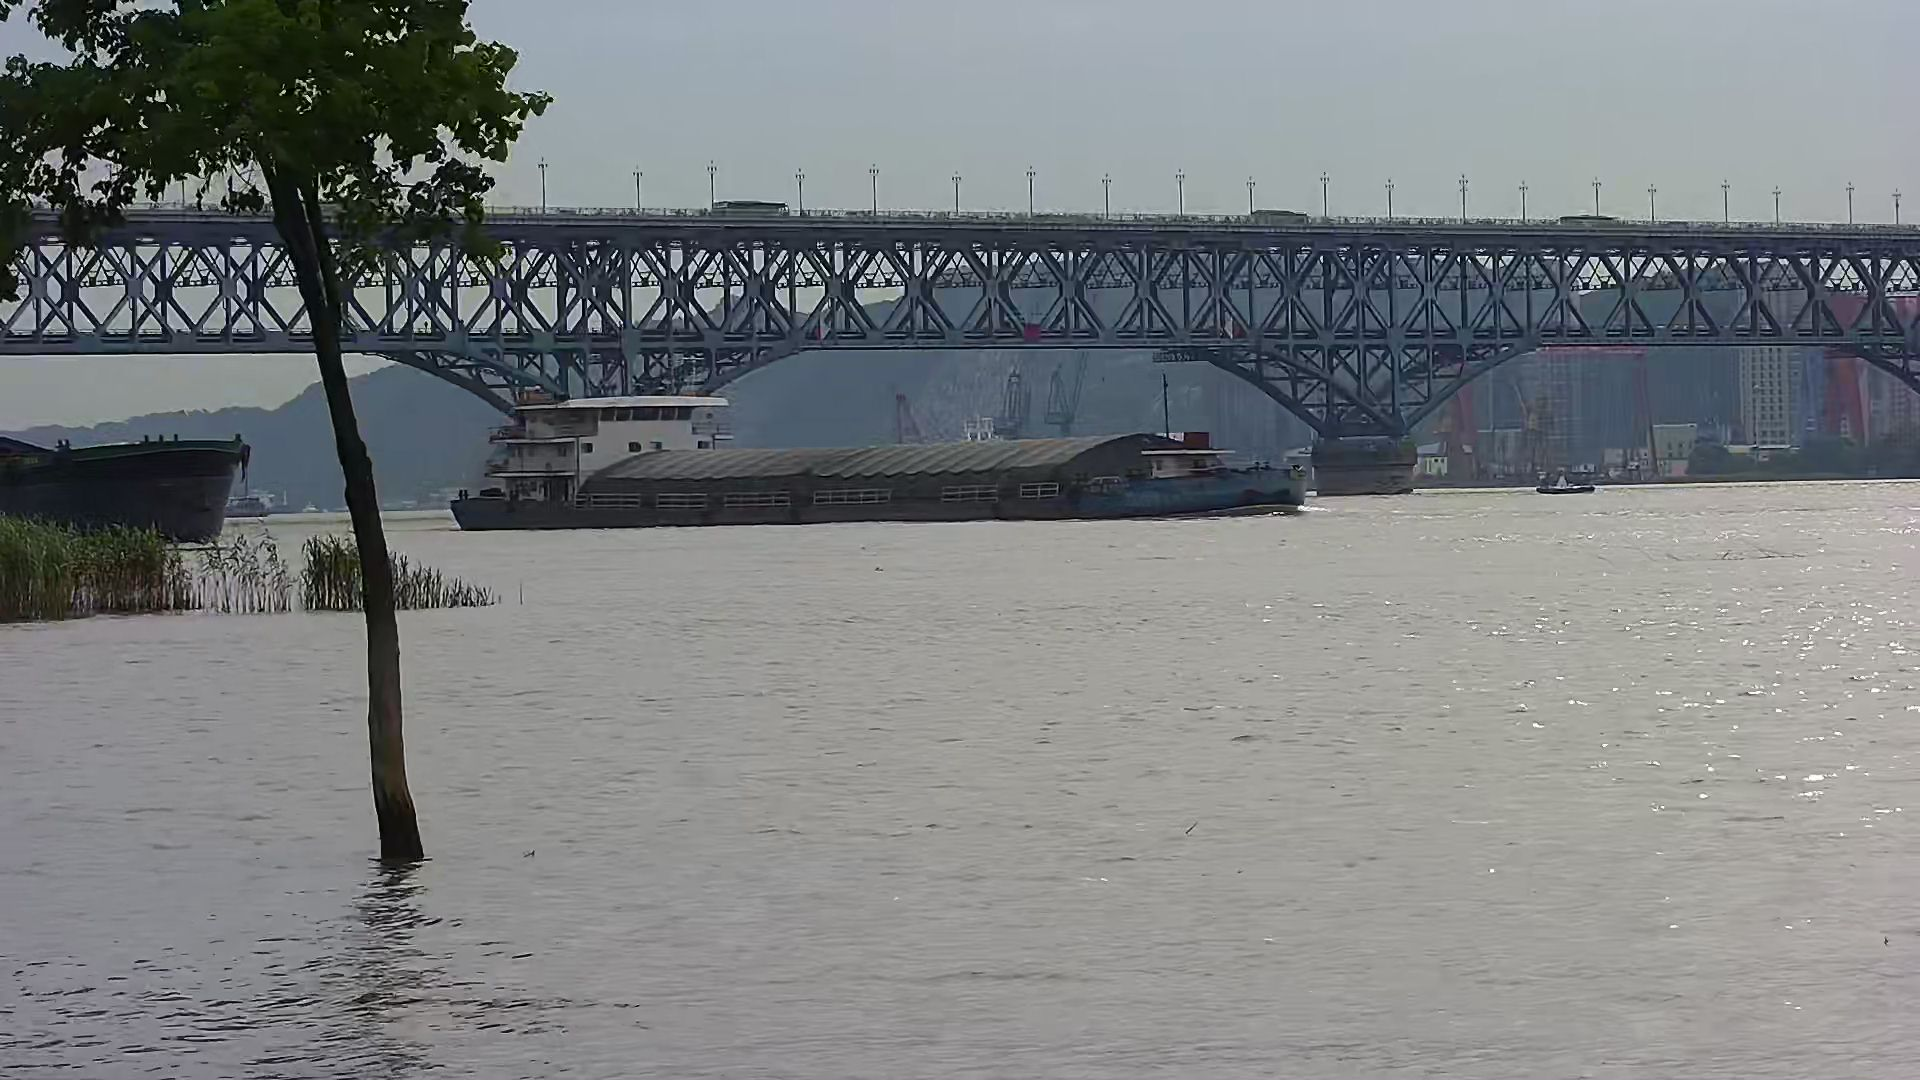boat: (1538, 473, 1604, 495)
bridge: (3, 175, 1920, 497)
grass: (1, 516, 518, 621)
ship: (450, 389, 1311, 531), (1, 436, 255, 542)
tree: (1, 3, 554, 868)
